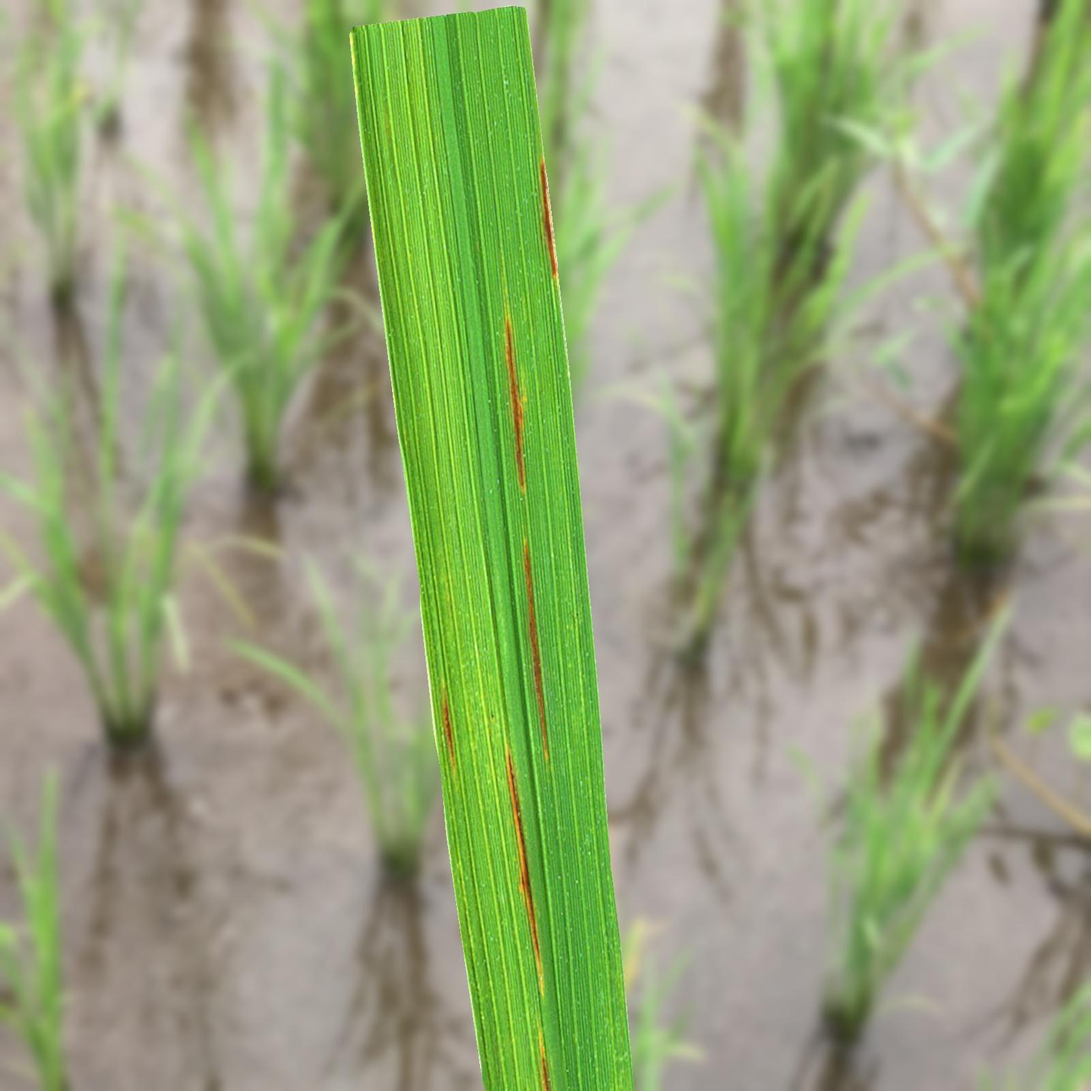LEAF: (349, 5, 633, 1090)
NBS: (506, 745, 543, 996), (524, 540, 548, 761), (505, 314, 524, 490), (540, 159, 557, 279), (443, 693, 456, 771), (539, 1032, 550, 1090)
